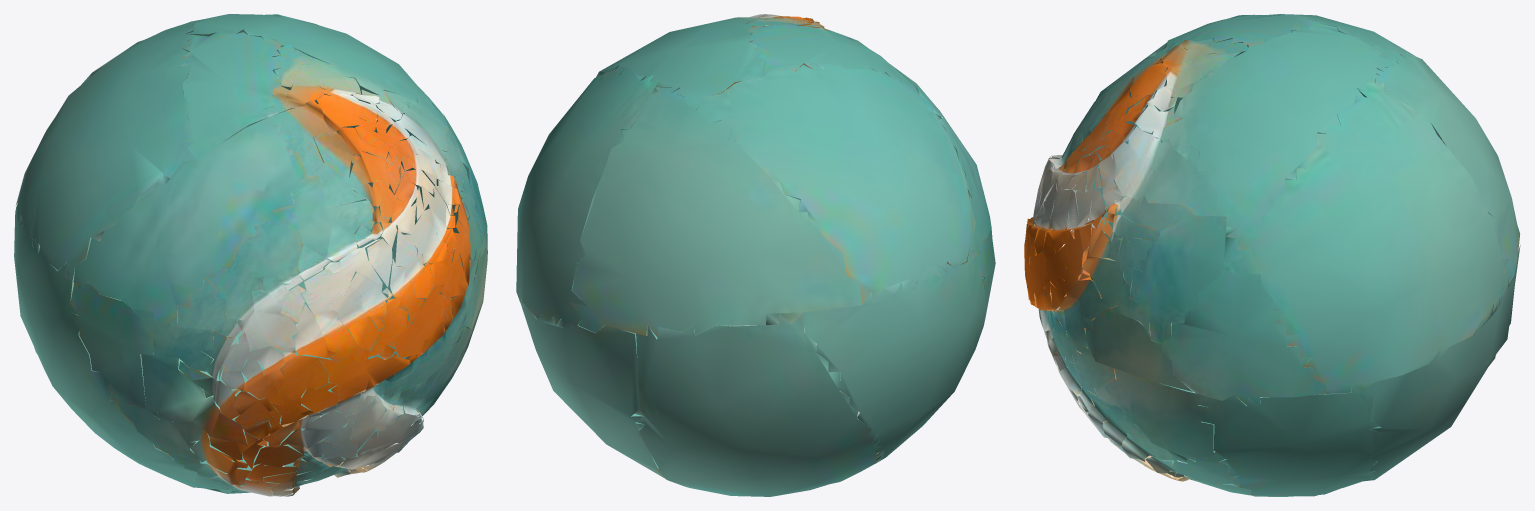
File: marble.glb
3 renders of one model, left to right at view 1: azimuth 30°, elevation 25°; view 2: azimuth 150°, elevation 25°; view 3: azimuth 270°, elevation 25°, orthographic.
Visible parts, largest first — view 1: marble; view 2: marble; view 3: marble.
Boxes of the visible parts, bbox=[...] form: marble: bbox=[14, 14, 487, 496]; marble: bbox=[516, 14, 995, 496]; marble: bbox=[1024, 14, 1520, 496].
Bounding box in the file's own units: 0.0195 × 0.0197 × 0.02.
Materials: 1 (1 with a texture image).
